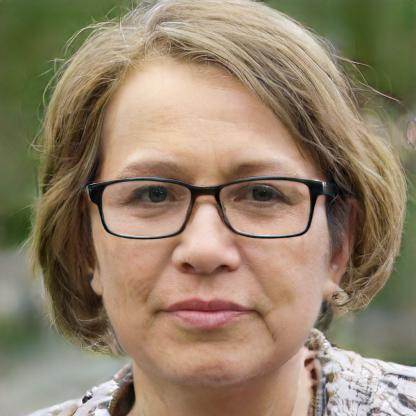glasses: (90, 174, 326, 249)
